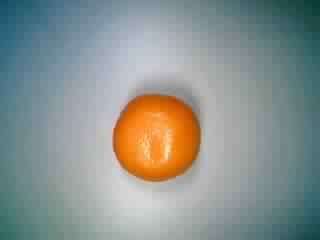orange: (109, 86, 204, 188)
